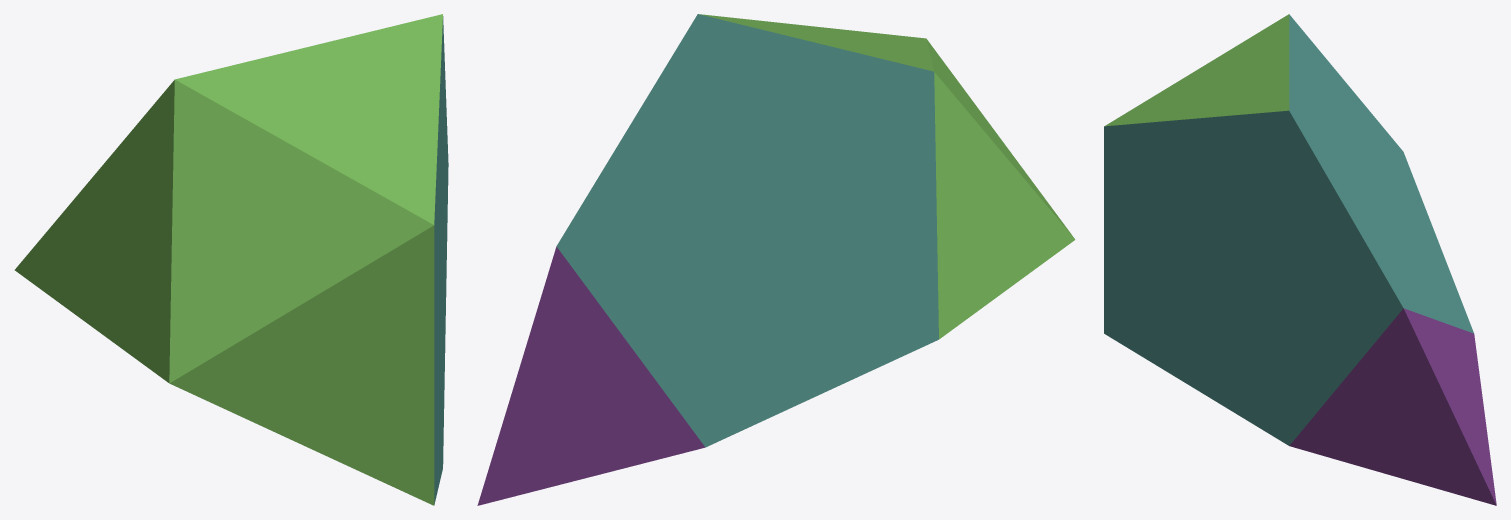
Rendered from J64.IcosaedroTridisminuidoAumentado.gltf.
The picture shows the model from 3 angles, left to right: view 1: azimuth 30°, elevation 25°; view 2: azimuth 150°, elevation 25°; view 3: azimuth 270°, elevation 25°; orthographic projection. The views are drawn at different scales.
Parts seen in each view (by area): view 1: J64.IcosaedroTridisminuidoAumentado; view 2: J64.IcosaedroTridisminuidoAumentado; view 3: J64.IcosaedroTridisminuidoAumentado.
Part boxes in pixels (left/top/right/bottom): J64.IcosaedroTridisminuidoAumentado: left=14, top=14, right=448, bottom=505; J64.IcosaedroTridisminuidoAumentado: left=477, top=14, right=1075, bottom=505; J64.IcosaedroTridisminuidoAumentado: left=1104, top=14, right=1496, bottom=505.
Bounding box in the file's own units: 10.92 × 10.92 × 10.92.
